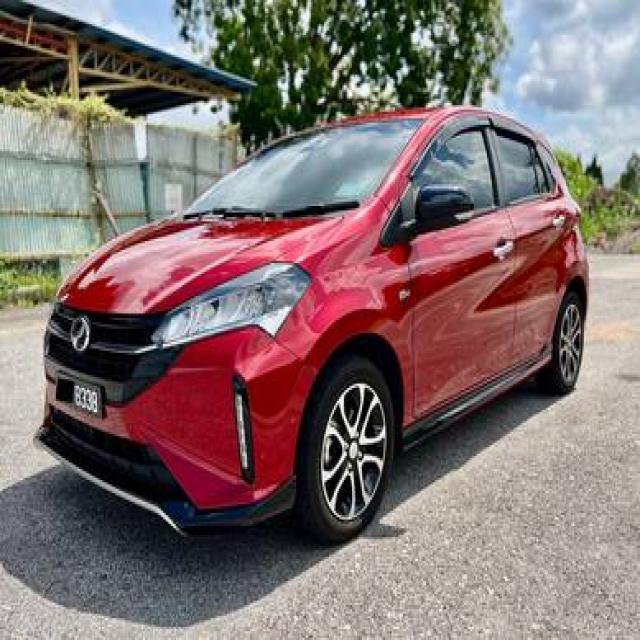PeroduaMyvi: (33, 101, 591, 546)
